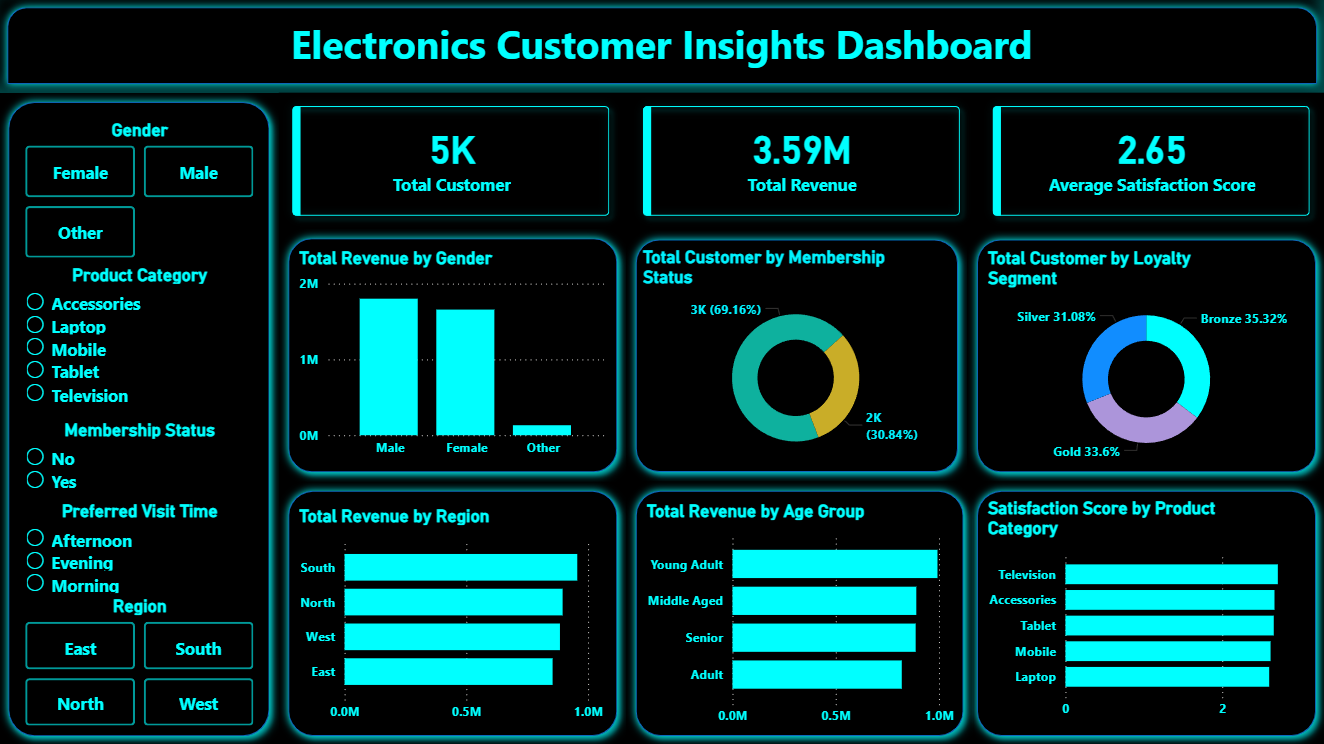

What the dashboard file says about the page in this screenshot:
{"tool":"powerbi","page":{"name":"Page 1","canvas":[1280,720],"ordinal":0},"visuals":[{"type":"shape","box":[0,0,1280,90],"z":0},{"type":"textbox","box":[270,12.9,738.6,64.3],"z":1000},{"type":"cardVisual","fields":{"Data":["public electronics.Total Customer","public electronics.Total Revenue","public electronics.Average Satisfaction Score"]},"box":[270,90,1010,132.5],"z":2000},{"type":"shape","box":[605.6,465.7,334.2,254.6],"z":3000},{"type":"barChart","title":"Total Revenue by Age Group","fields":{"Category":["public electronics.age_group"],"Y":["public electronics.Total Revenue"]},"box":[620.4,483.3,307.3,226.5],"z":4000},{"type":"shape","box":[270.2,465.7,335.4,254.6],"z":5000},{"type":"barChart","title":"Total Revenue by Region","fields":{"Category":["public electronics.region"],"Y":["Sum(public electronics.revenue)"]},"box":[284.7,488.6,304,217.2],"z":6000},{"type":"shape","box":[0,90,270,630],"z":7000},{"type":"advancedSlicerVisual","title":"Gender","fields":{"Values":["public electronics.gender"]},"box":[20.2,115.4,230.8,139.9],"z":8000},{"type":"advancedSlicerVisual","title":"Region","fields":{"Values":["public electronics.region"]},"box":[20.2,575.7,230.8,131.3],"z":9000},{"type":"shape","box":[270.2,222,335.4,243.7],"z":10000},{"type":"columnChart","title":"Total Revenue by Gender","fields":{"Y":["Sum(public electronics.revenue)"],"Category":["public electronics.gender"]},"box":[284.7,240.1,305.2,211.1],"z":11000},{"type":"shape","box":[935,465.7,345,254.6],"z":12000},{"type":"shape","box":[935,223.2,345,242.5],"z":13000},{"type":"barChart","title":"Satisfaction Score by Product Category","fields":{"Category":["public electronics.product_category"],"Y":["public electronics.Average Satisfaction Score"]},"box":[949.3,481.9,316,222.2],"z":14000},{"type":"donutChart","fields":{"Y":["public electronics.Total Customer"],"Category":["public electronics.Loyalty Segment"]},"box":[949.5,240.1,316.1,212.3],"z":15000},{"type":"shape","box":[606,223.6,328.9,242.4],"z":16000},{"type":"donutChart","title":"Total Customer by Membership Status","fields":{"Y":["public electronics.Total Customer"],"Category":["public electronics.membership_status"]},"box":[616.5,238.9,305.2,212.3],"z":17000},{"type":"listSlicer","title":"Product Category","fields":{"Values":["public electronics.product_category"]},"box":[20.2,255.4,230.8,210.6],"z":18000},{"type":"listSlicer","title":"Membership Status","fields":{"Values":["public electronics.Membership Label"]},"box":[20.2,405.4,230.8,210.6],"z":19000},{"type":"listSlicer","title":"Preferred Visit Time","fields":{"Values":["public electronics.preferred_visit_time"]},"box":[20.2,483.3,230.8,210.6],"z":20000}]}

Visuals, with their boxes in screenshot pixels (x1, y1, x2, y2), scaled from the page's 1280x720 canvas onto the 1324x744 screenshot:
shape: bbox(0, 0, 1323, 93)
textbox: bbox(279, 13, 1043, 80)
cardVisual - public electronics.Total Customer x public electronics.Total Revenue: bbox(279, 93, 1323, 230)
shape: bbox(626, 481, 972, 743)
"Total Revenue by Age Group" barChart: bbox(642, 499, 960, 733)
shape: bbox(279, 481, 626, 743)
"Total Revenue by Region" barChart: bbox(294, 505, 609, 729)
shape: bbox(0, 93, 279, 743)
"Gender" advancedSlicerVisual: bbox(21, 119, 260, 264)
"Region" advancedSlicerVisual: bbox(21, 595, 260, 731)
shape: bbox(279, 229, 626, 481)
"Total Revenue by Gender" columnChart: bbox(294, 248, 610, 466)
shape: bbox(967, 481, 1323, 743)
shape: bbox(967, 231, 1323, 481)
"Satisfaction Score by Product Category" barChart: bbox(982, 498, 1309, 728)
donutChart - public electronics.Total Customer x public electronics.Loyalty Segment: bbox(982, 248, 1309, 467)
shape: bbox(627, 231, 967, 482)
"Total Customer by Membership Status" donutChart: bbox(638, 247, 953, 466)
"Product Category" listSlicer: bbox(21, 264, 260, 482)
"Membership Status" listSlicer: bbox(21, 419, 260, 637)
"Preferred Visit Time" listSlicer: bbox(21, 499, 260, 717)
